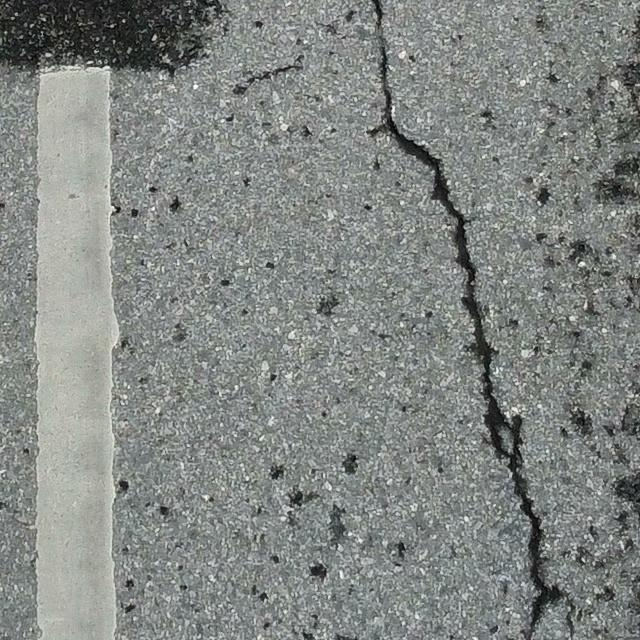LongitudinalCrack: (369, 1, 566, 640)
